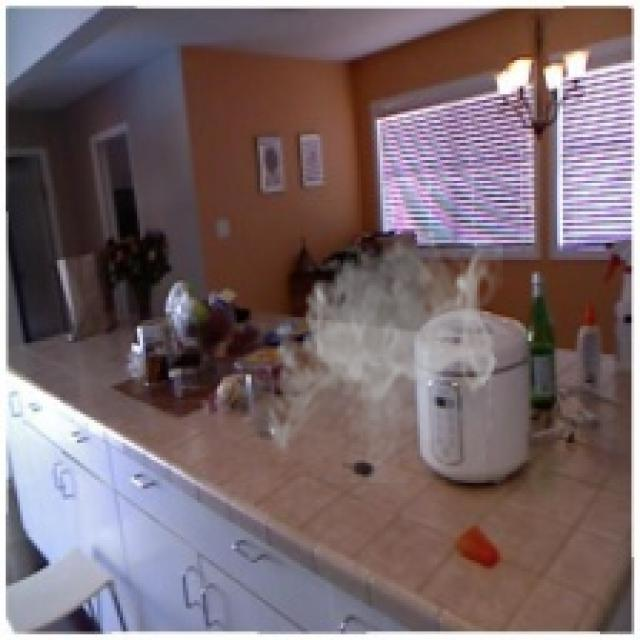smoke: (260, 228, 503, 483)
